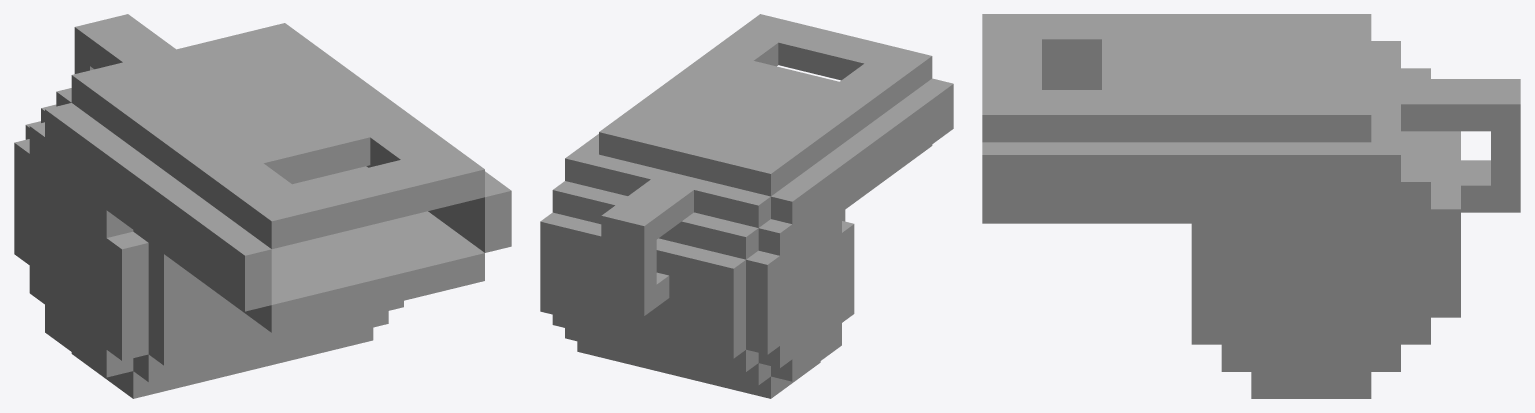
Rendered from whistle.obj.
3 renders of one model, left to right at view 1: azimuth 30°, elevation 25°; view 2: azimuth 150°, elevation 25°; view 3: azimuth 270°, elevation 25°, orthographic. The views are drawn at different scales.
Bounding box in the file's own units: 1 × 1 × 1.8.
Materials: 1 (1 with a texture image).
